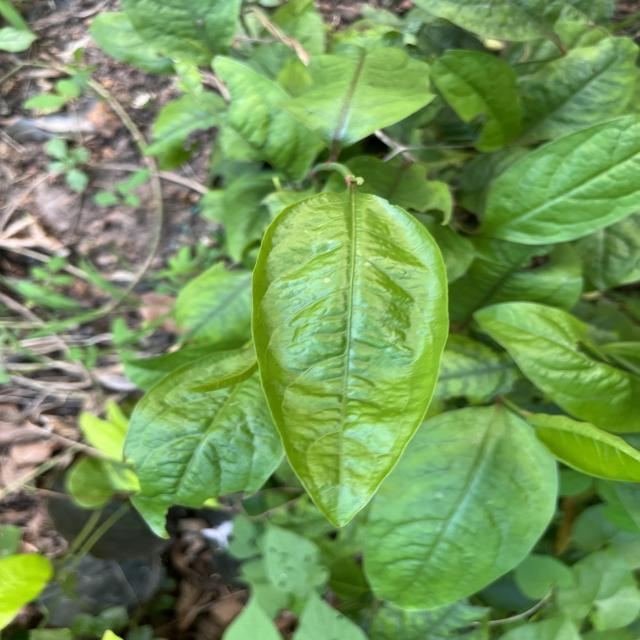Plumbago indica: (245, 188, 456, 533), (360, 402, 564, 616), (119, 340, 286, 543)
